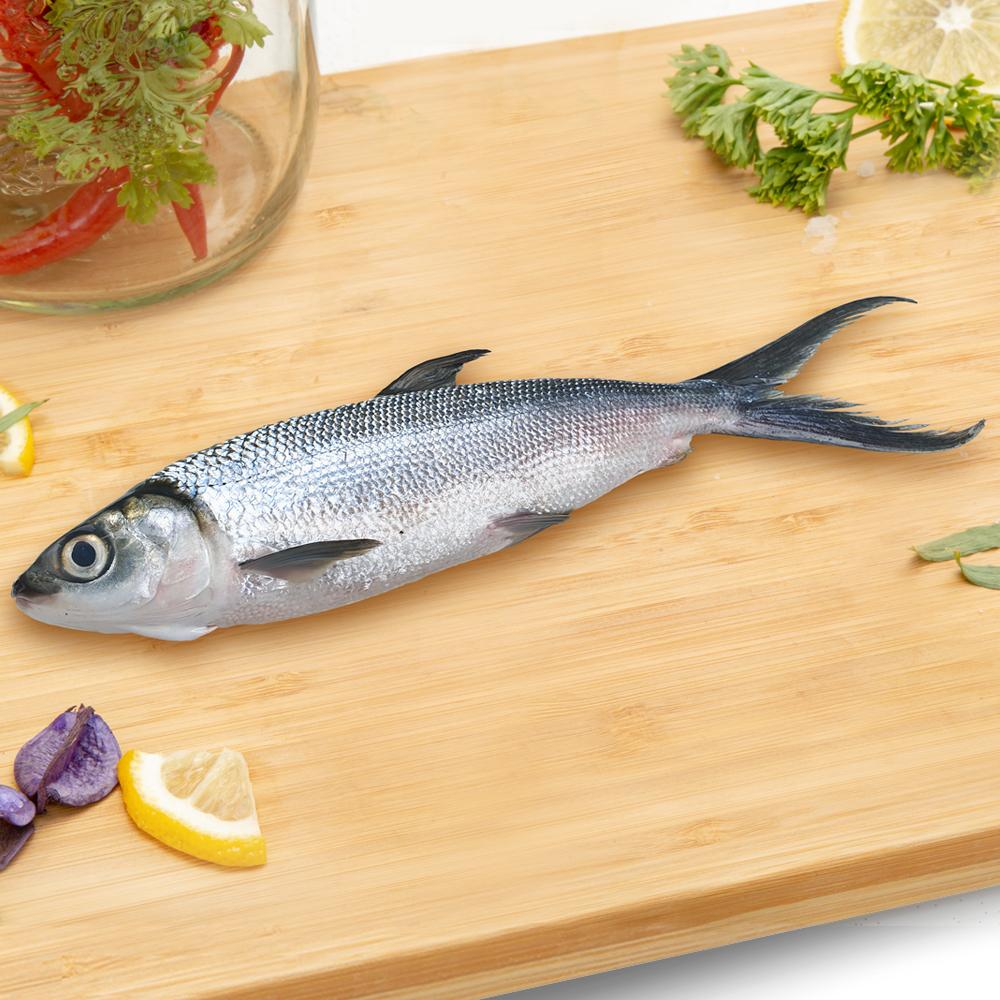Bangus: (11, 300, 991, 643)
